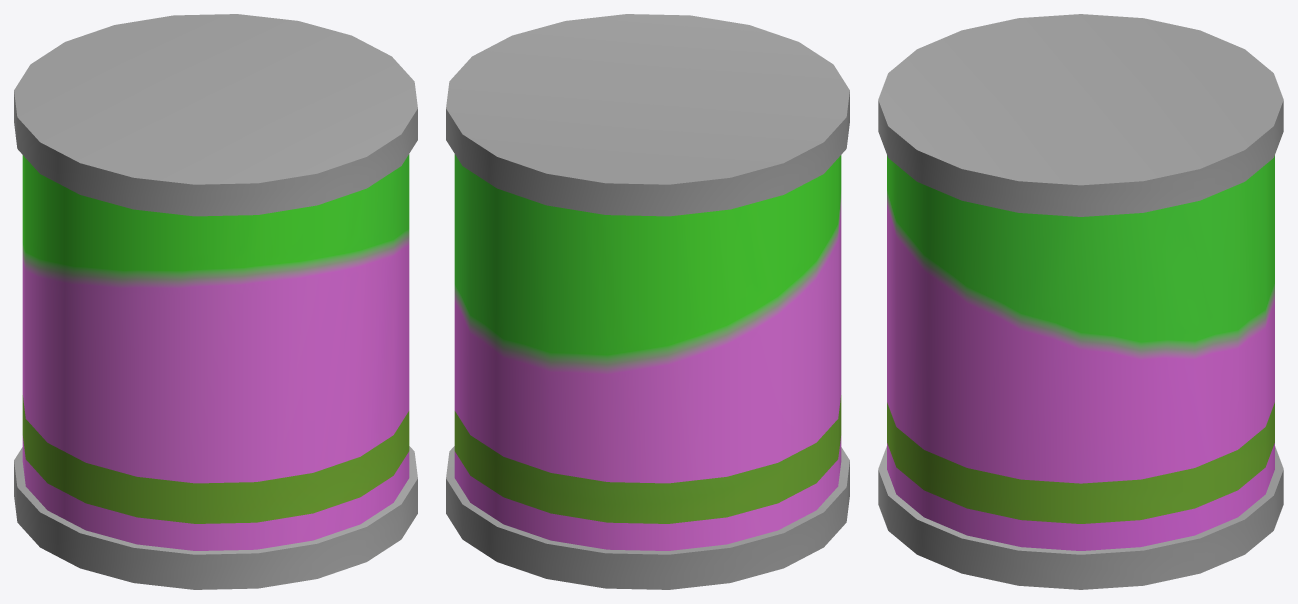
Rendered from Ürün79.fbx.
The picture shows the model from 3 angles, left to right: view 1: azimuth 30°, elevation 25°; view 2: azimuth 150°, elevation 25°; view 3: azimuth 270°, elevation 25°; orthographic projection.
Visible parts, largest first — view 1: pCylinder51; view 2: pCylinder51; view 3: pCylinder51.
Boxes of the visible parts, x1,y1,x2,y2 form: pCylinder51: [14, 14, 417, 589]; pCylinder51: [446, 14, 849, 589]; pCylinder51: [878, 14, 1283, 589].
Bounding box in the file's own units: 9.51 × 10.47 × 9.51.
